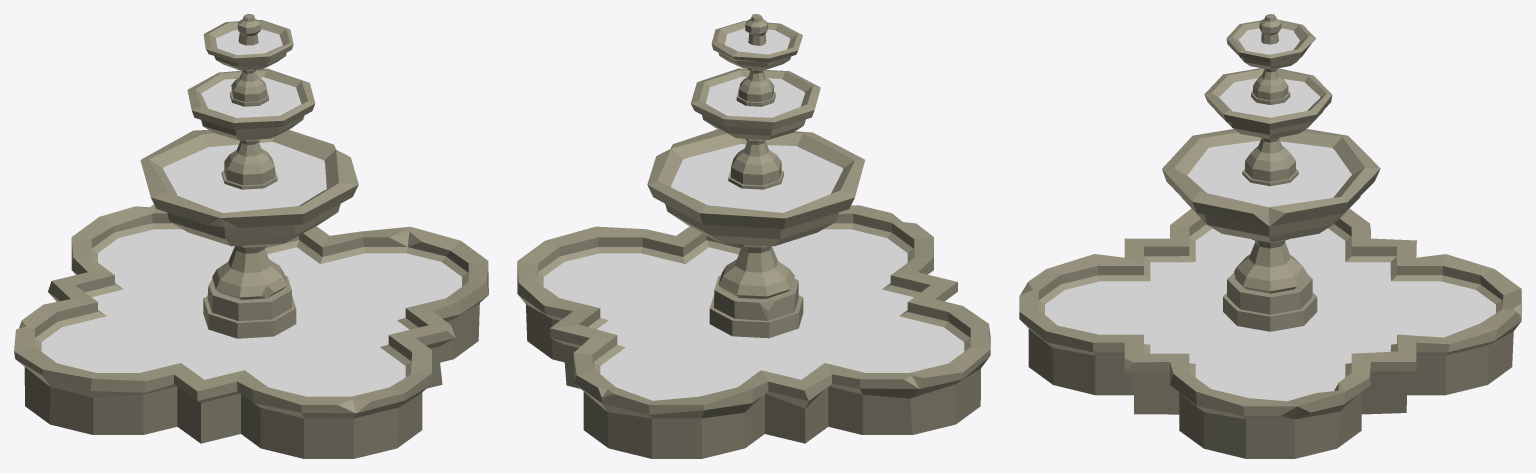
Rendered from Fountain_1.fbx.
3 views of the same model, side by side, from view 1: azimuth 30°, elevation 25°; view 2: azimuth 150°, elevation 25°; view 3: azimuth 270°, elevation 25° (orthographic). The views are drawn at different scales.
Parts seen in each view (by area): view 1: Fountain_1, Fountain_1_Water; view 2: Fountain_1, Fountain_1_Water; view 3: Fountain_1, Fountain_1_Water.
Boxes of the visible parts, x1=… form: Fountain_1: x1=14, y1=14, x2=488, y2=458; Fountain_1_Water: x1=41, y1=29, x2=461, y2=396; Fountain_1: x1=517, y1=14, x2=990, y2=458; Fountain_1_Water: x1=543, y1=28, x2=964, y2=400; Fountain_1: x1=1019, y1=14, x2=1521, y2=458; Fountain_1_Water: x1=1045, y1=28, x2=1495, y2=401.
Bounding box in the file's own units: 361 × 269 × 360.
